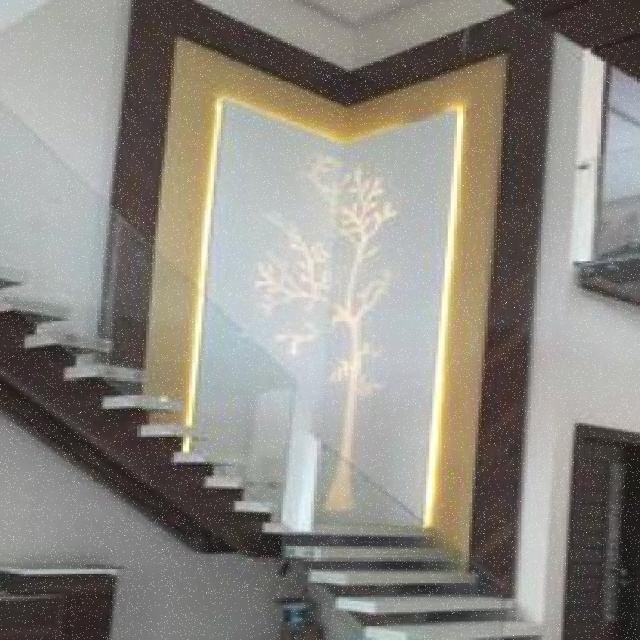stair: (3, 258, 628, 638)
